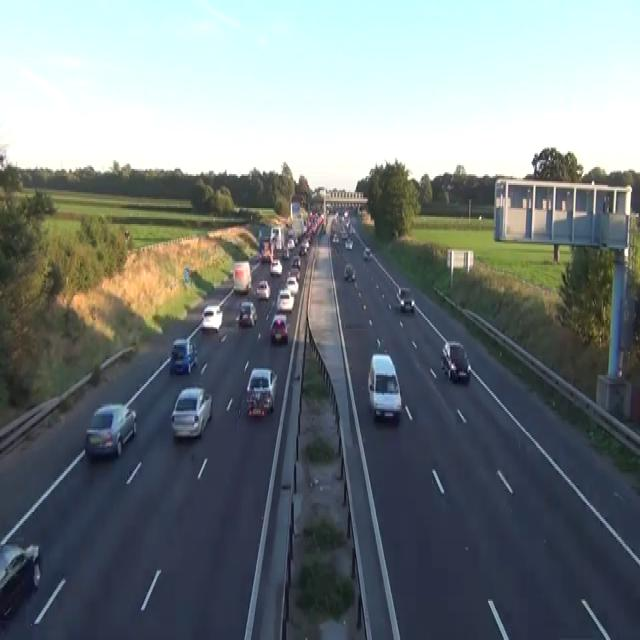Car: (0, 540, 41, 620), (84, 402, 137, 458), (367, 352, 402, 421), (170, 386, 212, 437), (246, 367, 277, 412), (440, 340, 471, 382), (169, 338, 197, 373), (269, 313, 289, 343), (235, 301, 257, 327), (201, 304, 222, 331), (246, 393, 265, 418), (396, 286, 414, 311), (275, 288, 294, 311), (255, 279, 270, 299), (285, 276, 299, 295), (269, 258, 282, 276), (344, 263, 355, 281), (400, 297, 414, 311), (288, 267, 300, 279), (291, 254, 301, 268), (299, 240, 309, 254), (0, 149, 7, 169), (363, 246, 371, 260), (344, 238, 353, 249), (340, 226, 348, 238), (331, 233, 339, 243), (287, 238, 294, 249), (282, 247, 289, 258), (326, 203, 332, 213), (446, 183, 454, 190), (343, 210, 348, 218)
Truck: (232, 260, 251, 294), (290, 201, 300, 219)
